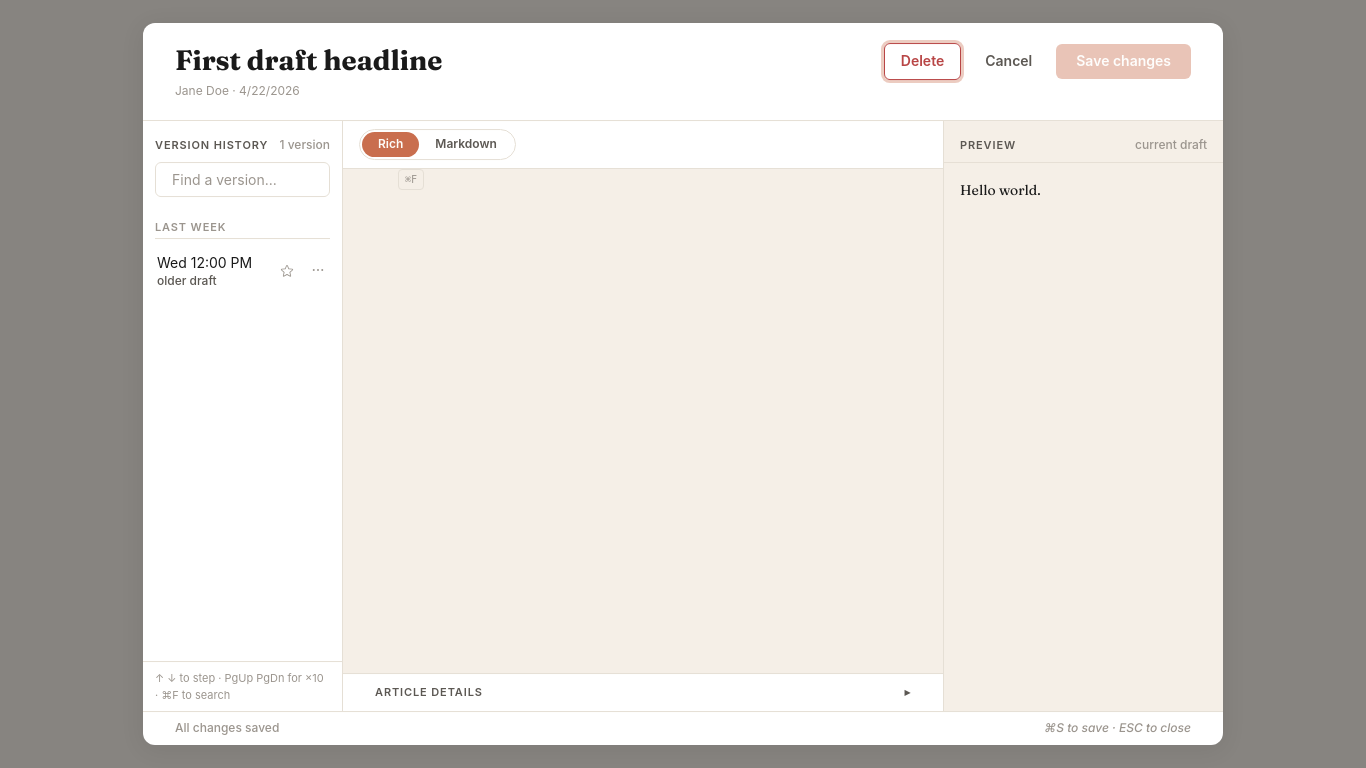
Test case: <EditArticleModal> › Selecting a snapshot in the history panel updates the right preview
Expected: the element with test id "edit-article-preview-body" reads "Hello world.", [960, 181, 1041, 199]
# Click the snapshot row.
Click the button with test id "article-history-row-snap-42": (242,271) [143, 243, 342, 299]
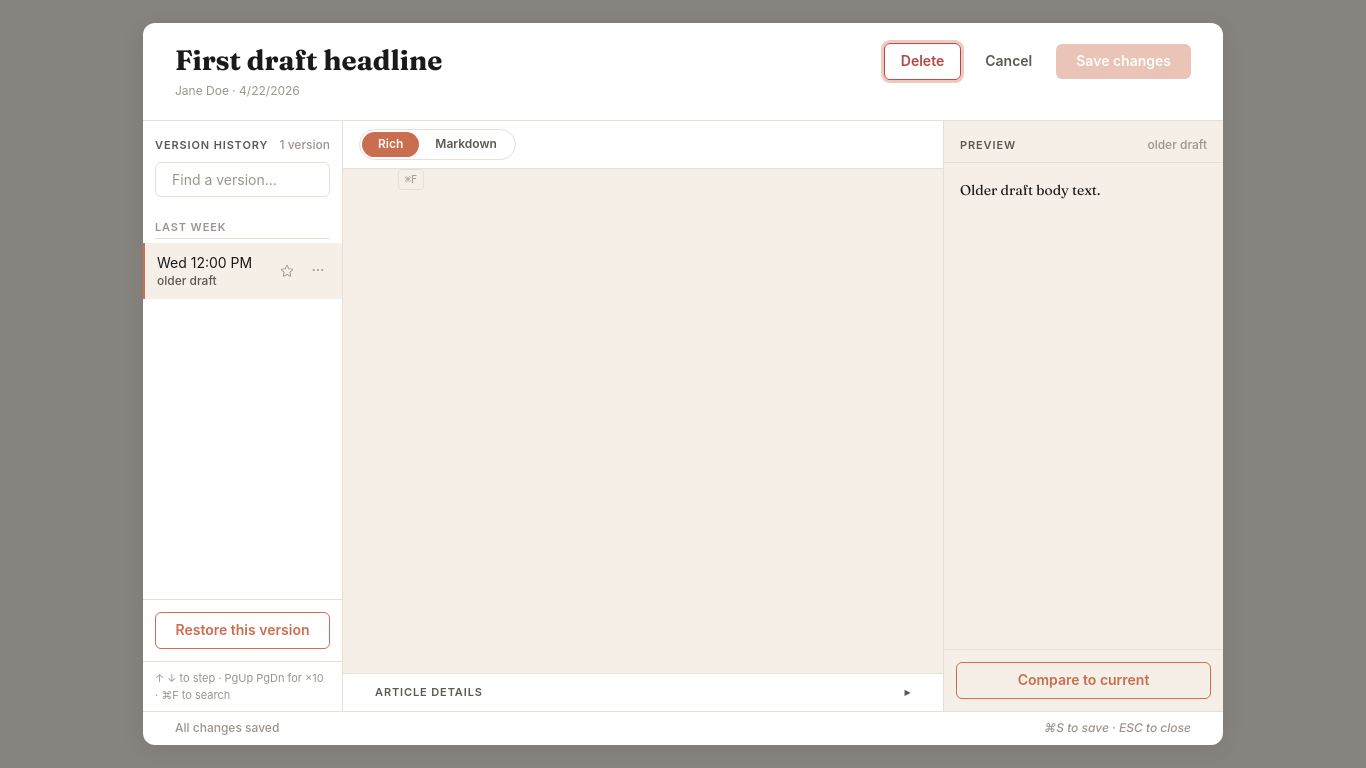
Now the element with test id "edit-article-preview-body" reads "Older draft body text.", box [960, 181, 1100, 199]
